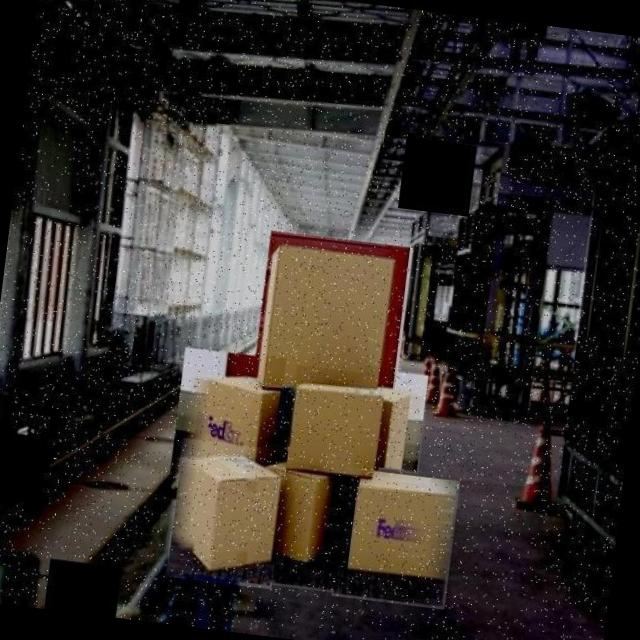box: (250, 229, 416, 406), (165, 437, 288, 589), (331, 466, 460, 610), (169, 346, 286, 486), (250, 443, 357, 593), (283, 366, 392, 492), (351, 366, 430, 474)
